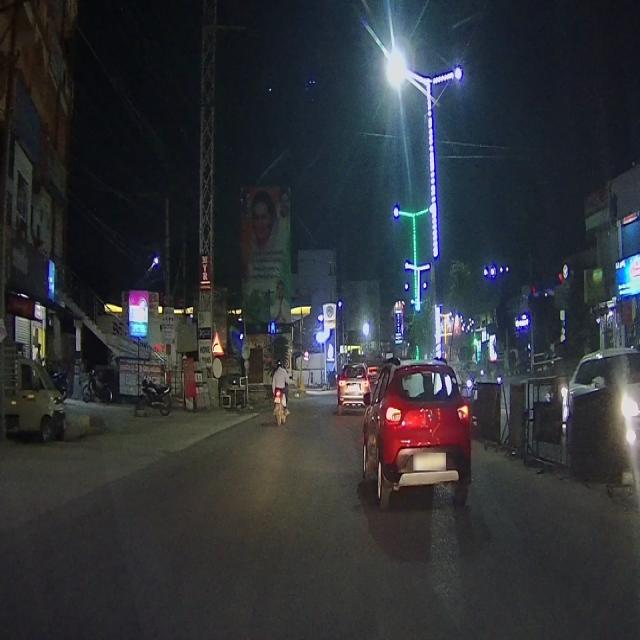right-hand-curve: (213, 329, 222, 353)
